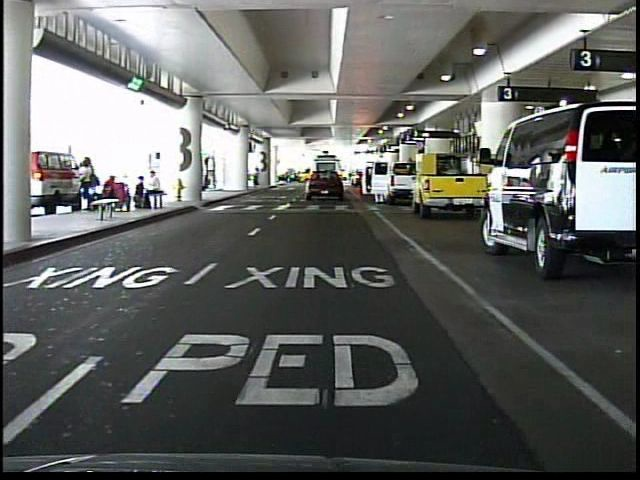person: (250, 166, 262, 191)
